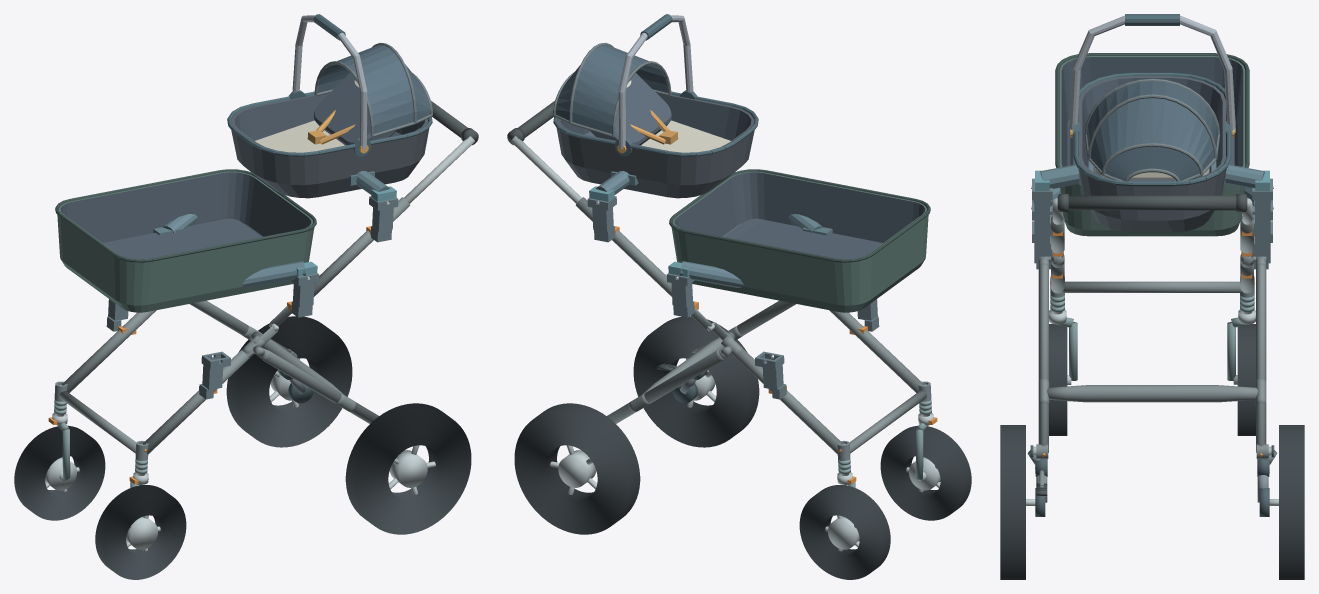
Rendered from D10_w550_state1_wheel_L.glb.
The picture shows the model from 3 angles, left to right: view 1: azimuth 30°, elevation 25°; view 2: azimuth 150°, elevation 25°; view 3: azimuth 270°, elevation 25°; orthographic projection. The views are drawn at different scales.
Parts seen in each view (by area): view 1: D10_Lower, D10_Upper, RL_tire.002, RR_tire.002, FL_tire.002, FR_tire.002, D10_Lower_Mount_M, V46_rear_leg_-1.003, main_lower_-1.003, main_lower_1.003, main_upper_-1.003, RL_sealed_hub.002 (+10 smaller); view 2: D10_Lower, D10_Upper, RR_tire.002, RL_tire.002, FR_tire.002, FL_tire.002, D10_Lower_Mount_M, V46_rear_leg_1.003, main_lower_1.003, main_lower_-1.003, main_upper_1.003, RR_sealed_hub.002 (+10 smaller); view 3: D10_Upper, D10_Lower, RL_tire.002, RR_tire.002, V46_rearbar.003, round_handle.002, front_fixed_round_tube.002, D10_Upper_Mount_H, FL_tire.002, FR_tire.002, V46_rear_leg_1.003, V46_rear_leg_-1.003 (+8 smaller).
Part boxes in pixels (bbox=[...]): D10_Lower: bbox=[55, 169, 316, 312]; D10_Upper: bbox=[227, 14, 432, 198]; RL_tire.002: bbox=[345, 403, 471, 534]; RR_tire.002: bbox=[226, 316, 352, 447]; FL_tire.002: bbox=[95, 485, 186, 579]; FR_tire.002: bbox=[14, 425, 105, 520]; D10_Lower_Mount_M: bbox=[153, 214, 317, 287]; V46_rear_leg_-1.003: bbox=[261, 349, 378, 423]; main_lower_-1.003: bbox=[143, 350, 253, 454]; main_lower_1.003: bbox=[62, 310, 156, 392]; main_upper_-1.003: bbox=[314, 197, 410, 296]; RL_sealed_hub.002: bbox=[389, 450, 427, 487]; D10_Lower: bbox=[669, 169, 930, 312]; D10_Upper: bbox=[553, 14, 758, 198]; RR_tire.002: bbox=[514, 403, 640, 534]; RL_tire.002: bbox=[633, 316, 759, 447]; FR_tire.002: bbox=[799, 485, 890, 579]; FL_tire.002: bbox=[880, 425, 971, 520]; D10_Lower_Mount_M: bbox=[668, 214, 832, 287]; V46_rear_leg_1.003: bbox=[607, 349, 724, 423]; main_lower_1.003: bbox=[732, 350, 842, 454]; main_lower_-1.003: bbox=[829, 310, 923, 392]; main_upper_1.003: bbox=[575, 197, 671, 296]; RR_sealed_hub.002: bbox=[558, 450, 596, 487]; D10_Upper: bbox=[1069, 14, 1235, 232]; D10_Lower: bbox=[1055, 53, 1249, 236]; RL_tire.002: bbox=[1000, 425, 1025, 579]; RR_tire.002: bbox=[1279, 425, 1304, 579]; V46_rearbar.003: bbox=[1047, 385, 1257, 402]; round_handle.002: bbox=[1057, 195, 1247, 210]; front_fixed_round_tube.002: bbox=[1063, 281, 1241, 292]; D10_Upper_Mount_H: bbox=[1031, 161, 1273, 190]; FL_tire.002: bbox=[1049, 324, 1067, 435]; FR_tire.002: bbox=[1237, 324, 1255, 435]; V46_rear_leg_1.003: bbox=[1256, 263, 1266, 452]; V46_rear_leg_-1.003: bbox=[1038, 263, 1048, 452].
Bounding box in the file's own units: 1.19 × 1.4 × 0.7071.
